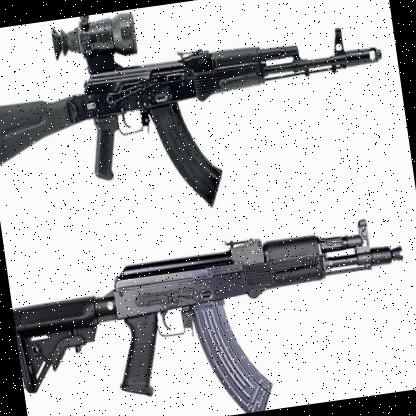rifle: (0, 0, 403, 242), (5, 202, 416, 416)
